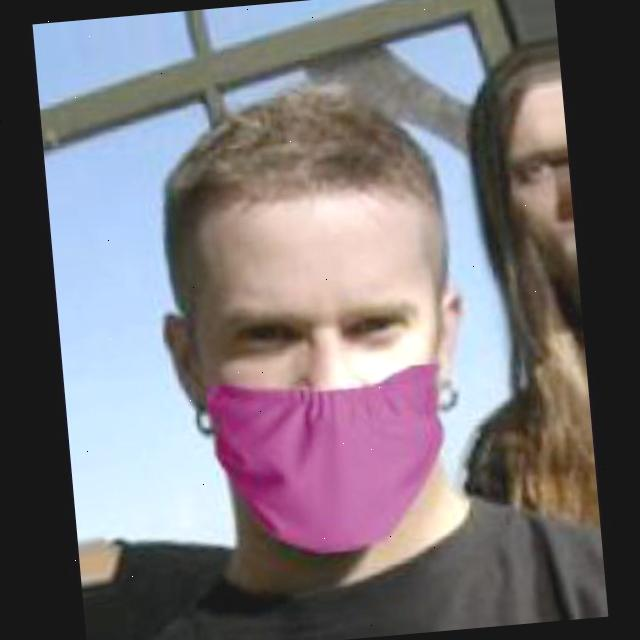suspicion: (44, 32, 508, 569)
